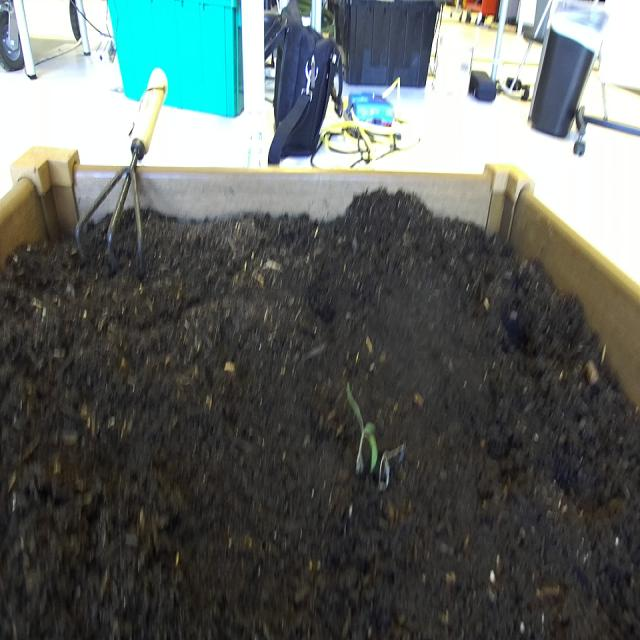Healthy: (344, 375, 378, 488)
Unhealthy: (376, 438, 408, 500)
